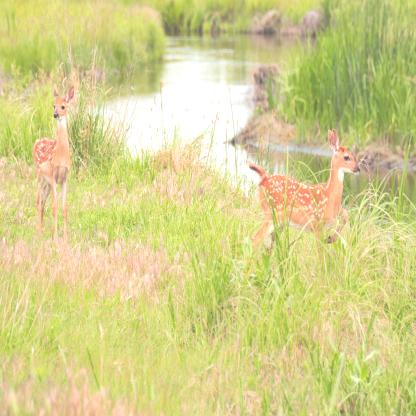Deer: (244, 128, 362, 292), (28, 79, 76, 253)
